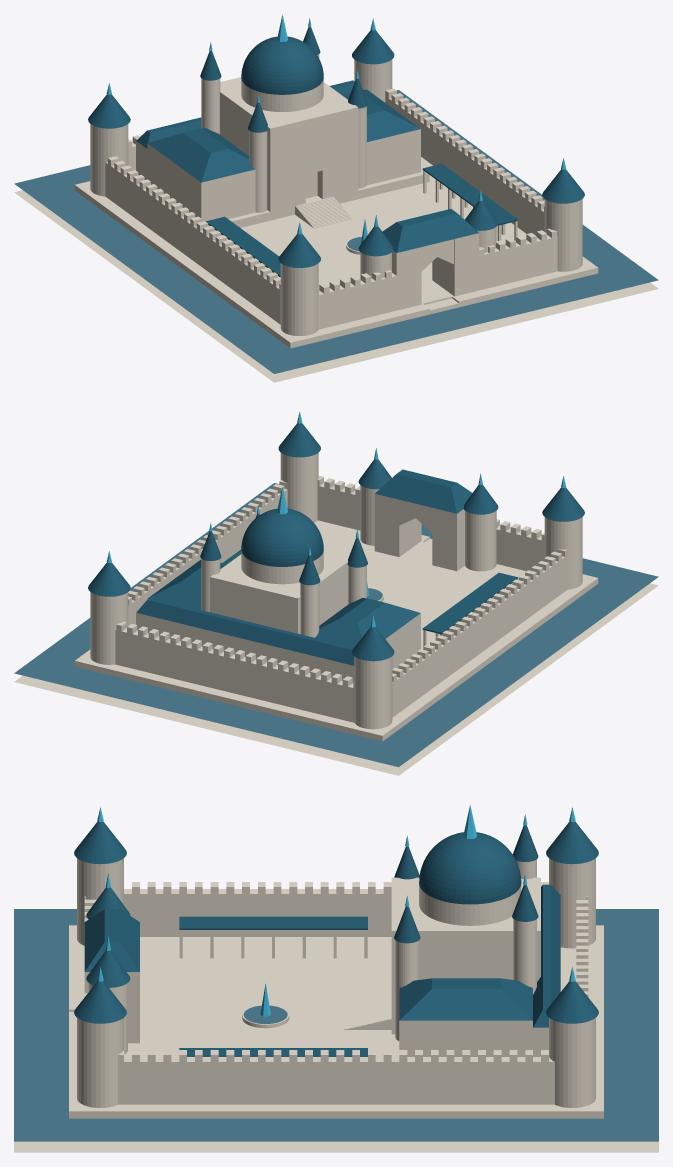
The model's file is castle.glb.
3 views of the same model, one above another, from view 1: azimuth 30°, elevation 25°; view 2: azimuth 150°, elevation 25°; view 3: azimuth 270°, elevation 25° (orthographic). The views are drawn at different scales.
Visible parts, largest first — view 1: NC.Export.castle.NC.MAT.IvoryStone, NC.Export.castle.NC.MAT.TealRoof, NC.Export.castle.NC.MAT.Moat, NC.Export.castle.NC.MAT.CrystalBlue; view 2: NC.Export.castle.NC.MAT.IvoryStone, NC.Export.castle.NC.MAT.TealRoof, NC.Export.castle.NC.MAT.Moat, NC.Export.castle.NC.MAT.CrystalBlue; view 3: NC.Export.castle.NC.MAT.IvoryStone, NC.Export.castle.NC.MAT.Moat, NC.Export.castle.NC.MAT.TealRoof, NC.Export.castle.NC.MAT.CrystalBlue.
Boxes of the visible parts, x1,y1,x2,y2 form: NC.Export.castle.NC.MAT.IvoryStone: [14, 54, 658, 382]; NC.Export.castle.NC.MAT.TealRoof: [88, 26, 584, 276]; NC.Export.castle.NC.MAT.Moat: [14, 90, 658, 373]; NC.Export.castle.NC.MAT.CrystalBlue: [106, 14, 566, 243]; NC.Export.castle.NC.MAT.IvoryStone: [14, 453, 658, 775]; NC.Export.castle.NC.MAT.TealRoof: [88, 423, 584, 665]; NC.Export.castle.NC.MAT.Moat: [14, 483, 658, 767]; NC.Export.castle.NC.MAT.CrystalBlue: [106, 411, 566, 627]; NC.Export.castle.NC.MAT.IvoryStone: [14, 858, 658, 1152]; NC.Export.castle.NC.MAT.Moat: [14, 909, 658, 1141]; NC.Export.castle.NC.MAT.TealRoof: [74, 821, 598, 1056]; NC.Export.castle.NC.MAT.CrystalBlue: [97, 805, 575, 1016].
Bounding box in the file's own units: 140 × 65 × 164.
